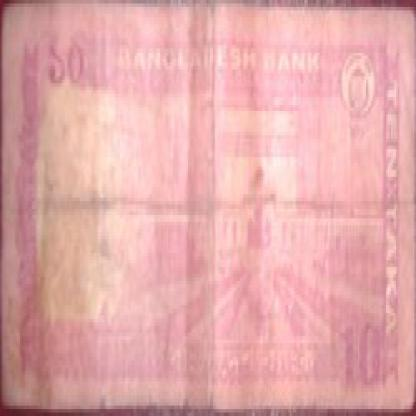Ten Taka: (332, 316, 390, 395), (35, 31, 98, 101), (233, 222, 294, 263)
